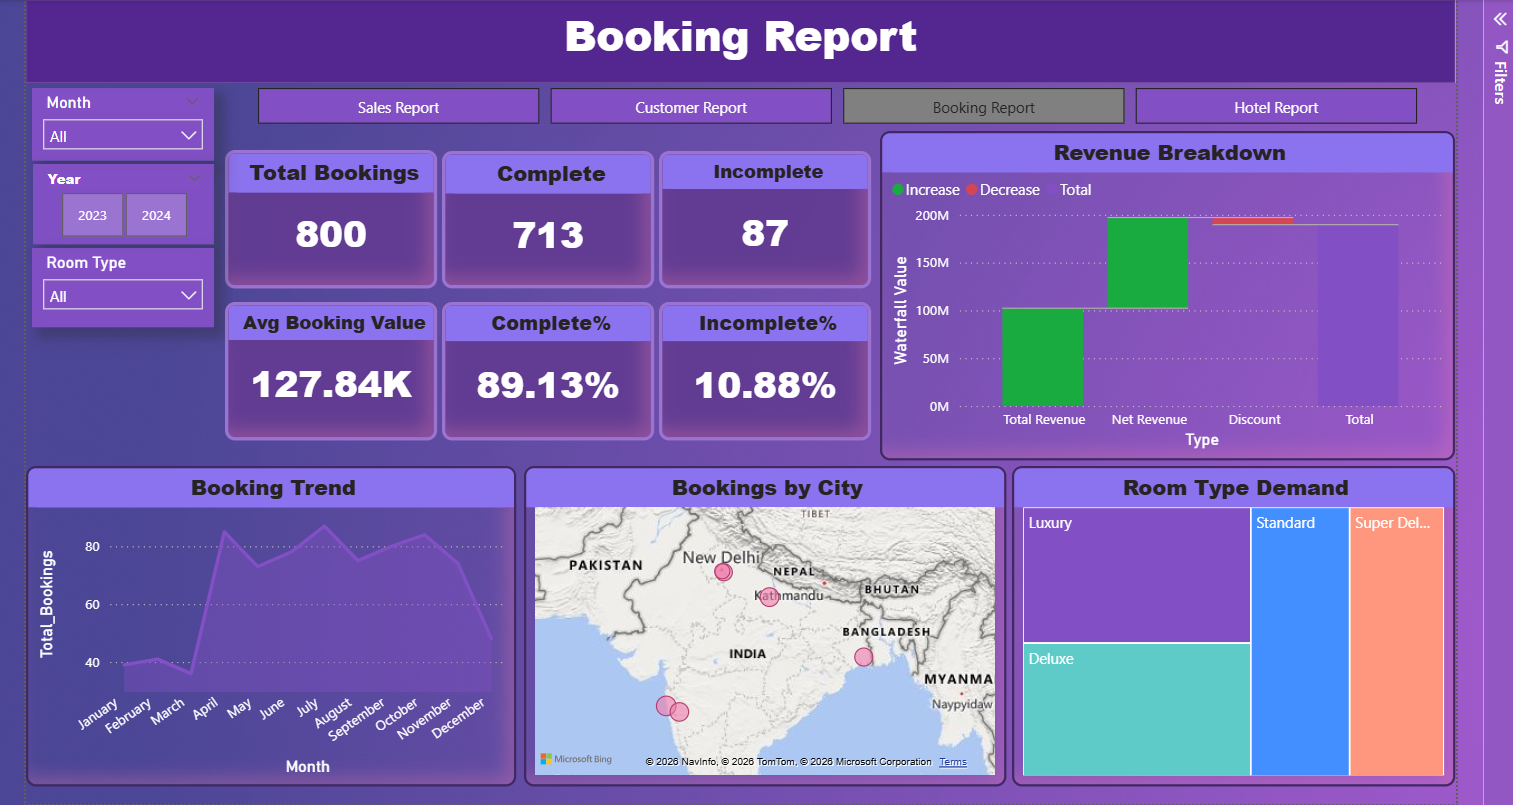

The dashboard page shown, as its layout file describes it:
{"tool":"powerbi","page":{"name":"Booking Report","canvas":[1280,720],"ordinal":2},"visuals":[{"type":"shape","box":[0,0,1279.7,74.3],"z":0},{"type":"card","title":"Total Bookings","fields":{"Values":["All Measures.Total_Bookings"]},"box":[178.2,134.3,189.9,123.6],"z":1000},{"type":"card","title":"Complete","fields":{"Values":["All Measures.comp"]},"box":[372.5,135.2,189.9,122.7],"z":2000},{"type":"card","title":"Incomplete","fields":{"Values":["All Measures.Incomp"]},"box":[566.9,135.2,189.9,122.7],"z":3000},{"type":"slicer","title":"Month","fields":{"Values":["Date.Date.Variation.Date Hierarchy.Month"]},"box":[5.4,78.8,163,65.4],"z":4000},{"type":"card","title":"Complete%","fields":{"Values":["All Measures.Comp%"]},"box":[372.5,270.4,189.9,123.6],"z":5000},{"type":"card","title":"Incomplete%","fields":{"Values":["All Measures.Incomp%"]},"box":[566.9,270.4,189.9,123.6],"z":6000},{"type":"textbox","box":[0,0,1279.7,74.3],"z":7000},{"type":"waterfallChart","title":"Revenue Breakdown","fields":{"Category":["Revenue Breakdown.Type"],"Y":["All Measures.Waterfall Value"]},"box":[764.8,117.3,514.9,294.6],"z":8000},{"type":"pageNavigator","box":[207.8,78.8,1038.8,32.2],"z":9000},{"type":"slicer","title":"Month","fields":{"Values":["Date.Date.Variation.Date Hierarchy.Year"]},"box":[6.3,146.9,162.1,71.6],"z":10000},{"type":"slicer","title":"Month","fields":{"Values":["bookings.room_type"]},"box":[5.4,222.1,163,70.7],"z":11000},{"type":"areaChart","title":"Booking Trend","fields":{"Category":["Date.Date.Variation.Date Hierarchy.Month"],"Y":["All Measures.Total_Bookings"]},"box":[0,417.3,438.8,287.5],"z":12000},{"type":"map","title":"Bookings by City","fields":{"Category":["hotels.city"],"Size":["All Measures.Total_Bookings"]},"box":[446,417.3,431.6,287.5],"z":13000},{"type":"treemap","title":"Room Type Demand","fields":{"Values":["All Measures.Total_Bookings"],"Group":["bookings.room_type"]},"box":[883,417.3,396.7,287.5],"z":14000},{"type":"card","title":"Avg Booking Value","fields":{"Values":["All Measures.Avg Booking Value"]},"box":[178.2,270.4,189.9,123.6],"z":15000}]}

Visuals, with their boxes on the page's 1280x720 design canvas (x1, y1, x2, y2). These are canvas units, not pixel positions in the 1513x805 screenshot, which may show the page scaled, cropped or inside an application window:
shape: BBox(0, 0, 1280, 74)
"Total Bookings" card: BBox(178, 134, 368, 258)
"Complete" card: BBox(372, 135, 562, 258)
"Incomplete" card: BBox(567, 135, 757, 258)
"Month" slicer: BBox(5, 79, 168, 144)
"Complete%" card: BBox(372, 270, 562, 394)
"Incomplete%" card: BBox(567, 270, 757, 394)
textbox: BBox(0, 0, 1280, 74)
"Revenue Breakdown" waterfallChart: BBox(765, 117, 1280, 412)
pageNavigator: BBox(208, 79, 1247, 111)
"Month" slicer: BBox(6, 147, 168, 218)
"Month" slicer: BBox(5, 222, 168, 293)
"Booking Trend" areaChart: BBox(0, 417, 439, 705)
"Bookings by City" map: BBox(446, 417, 878, 705)
"Room Type Demand" treemap: BBox(883, 417, 1280, 705)
"Avg Booking Value" card: BBox(178, 270, 368, 394)
